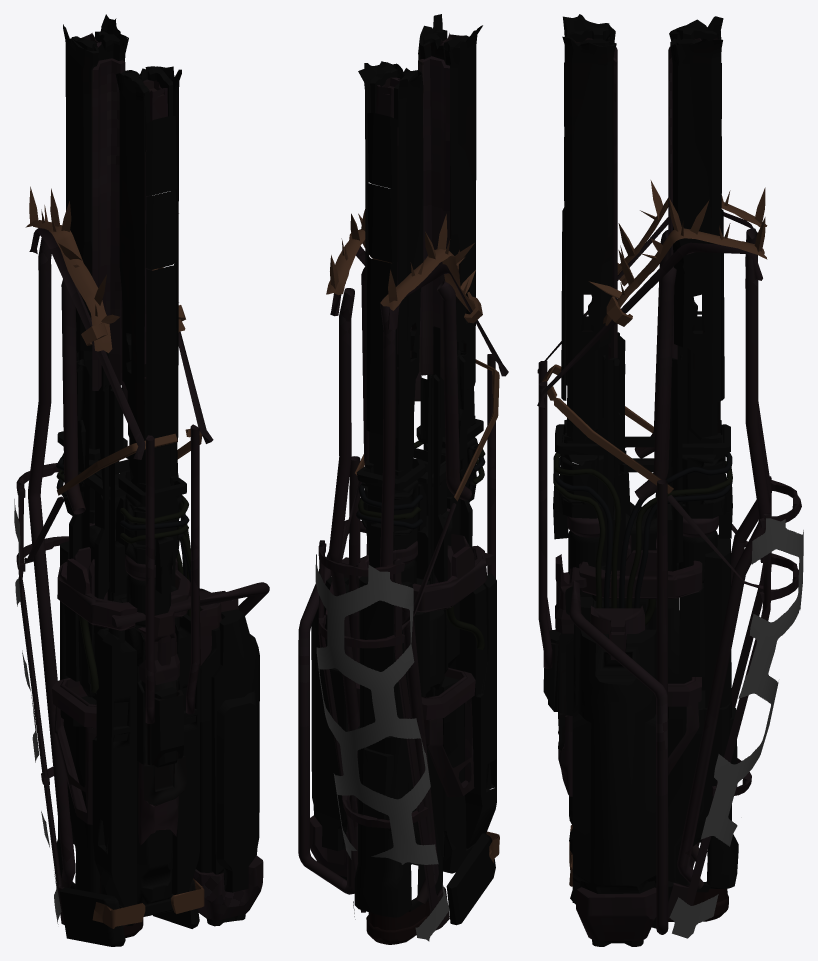
Rendered from snapper-s2-repeater.glb.
3 renders of one model, left to right at view 1: azimuth 30°, elevation 25°; view 2: azimuth 150°, elevation 25°; view 3: azimuth 270°, elevation 25°, orthographic. The views are drawn at different scales.
Parts seen in each view (by area): view 1: bas, anim_bar_02; view 2: bas, anim_bar_02; view 3: bas, anim_bar_02.
Boxes of the visible parts, <box> form: bas: <box>14,31,269,946</box>; anim_bar_02: <box>63,14,181,443</box>; bas: <box>298,29,508,944</box>; anim_bar_02: <box>358,14,482,436</box>; bas: <box>537,27,803,946</box>; anim_bar_02: <box>562,14,723,403</box>.
Size of the model in its own units: 0.4706 by 2.24 by 0.6047.
Materials: 10 (7 with a texture image).
